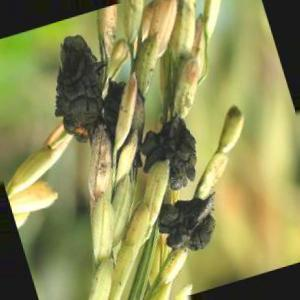Leaf_Scald: (57, 42, 106, 137), (142, 118, 195, 196), (169, 207, 216, 262)
